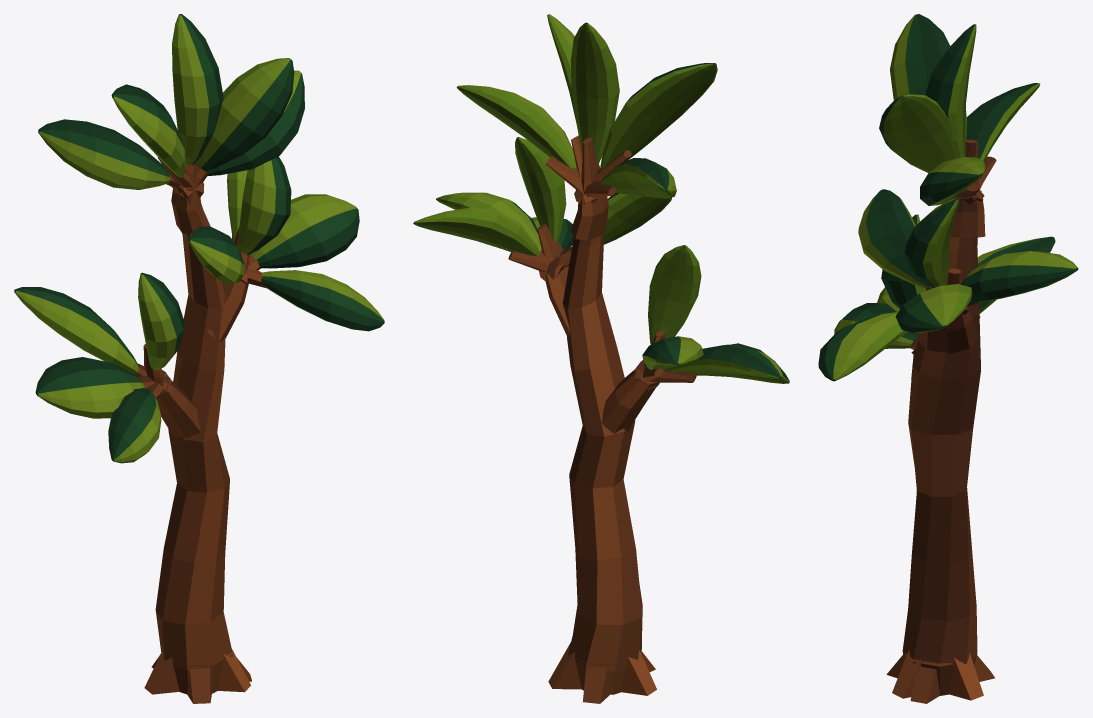
The model's file is raw.glb.
The picture shows the model from 3 angles, left to right: view 1: azimuth 30°, elevation 25°; view 2: azimuth 150°, elevation 25°; view 3: azimuth 270°, elevation 25°; orthographic projection. The views are drawn at different scales.
Visible parts, largest first — view 1: CanopyLeaves, CanopyStructure; view 2: CanopyLeaves, CanopyStructure; view 3: CanopyLeaves, CanopyStructure.
Boxes of the visible parts, x1,y1,x2,y2 form: CanopyLeaves: (14, 14, 384, 463); CanopyStructure: (132, 157, 266, 703); CanopyLeaves: (413, 14, 789, 383); CanopyStructure: (508, 135, 696, 703); CanopyLeaves: (818, 14, 1078, 381); CanopyStructure: (886, 140, 996, 703).
Size of the model in its own units: 3.25 by 6.2 by 2.22.
Materials: 1 (1 with a texture image).
